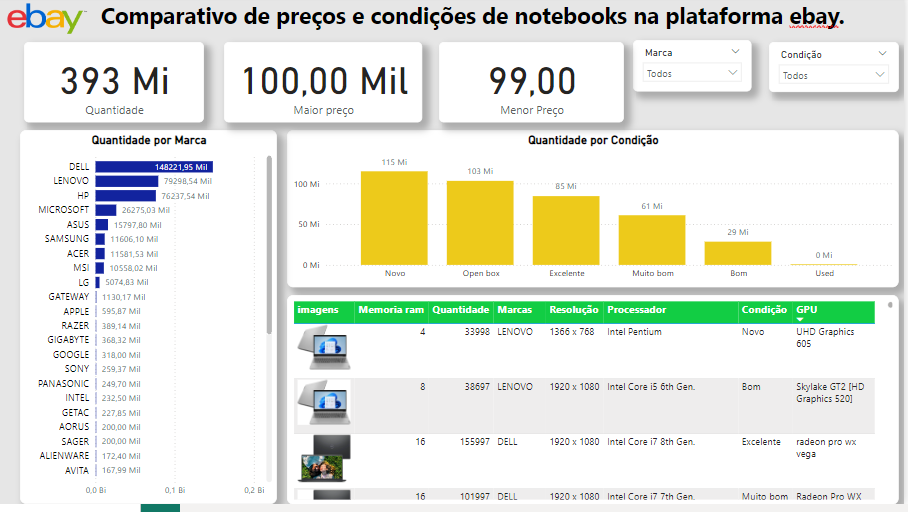

Layout of this report page (visuals, bound fields, positions):
{"tool":"powerbi","page":{"name":"Comparativo notebooks","canvas":[1280,720],"ordinal":0},"visuals":[{"type":"card","fields":{"Values":["Medidas.Quantidade"]},"box":[34.6,64.8,254.9,113.8],"z":0},{"type":"slicer","fields":{"Values":["base_notebooks.Condição"]},"box":[1090.1,64.8,184.3,70.6],"z":1000},{"type":"columnChart","fields":{"Category":["base_notebooks.Condição"],"Y":["Medidas.Quantidade"]},"box":[406.1,190.1,866.9,223.2],"z":2000},{"type":"clusteredBarChart","fields":{"Y":["Medidas.Quantidade"],"Category":["base_notebooks.Marca"]},"box":[28.3,189.9,364.3,530.1],"z":3000},{"type":"slicer","fields":{"Values":["base_notebooks.Marca"]},"box":[897.1,61.9,168.5,73.4],"z":4000},{"type":"tableEx","fields":{"Values":["imagens.imagens","base_notebooks.Memoria ram","Medidas.Quantidade","imagens.Marcas","base_notebooks.Resolução","base_notebooks.Processador","base_notebooks.Condição","base_notebooks.GPU"]},"box":[406.1,423.4,866.9,296.6],"z":5000},{"type":"card","fields":{"Values":["Medidas.Maior preço"]},"box":[316.8,64.8,280.8,113.8],"z":6000},{"type":"card","fields":{"Values":["Medidas.Meor Valor"]},"box":[622.1,64.8,262.1,113.8],"z":7000},{"type":"textbox","box":[118.1,0,1104.5,61.9],"z":8000},{"type":"image","box":[0,0,133.9,64.8],"z":9000}]}

Visuals, with their boxes in screenshot pixels (x1, y1, x2, y2), scaled from the page's 1280x720 canvas onto the 908x512 screenshot:
card - Medidas.Quantidade: box=[25, 46, 205, 127]
slicer - base_notebooks.Condição: box=[773, 46, 904, 96]
columnChart - base_notebooks.Condição x Medidas.Quantidade: box=[288, 135, 903, 294]
clusteredBarChart - Medidas.Quantidade x base_notebooks.Marca: box=[20, 135, 279, 511]
slicer - base_notebooks.Marca: box=[636, 44, 756, 96]
tableEx - imagens.imagens x base_notebooks.Memoria ram: box=[288, 301, 903, 511]
card - Medidas.Maior preço: box=[225, 46, 424, 127]
card - Medidas.Meor Valor: box=[441, 46, 627, 127]
textbox: box=[84, 0, 867, 44]
image: box=[0, 0, 95, 46]
